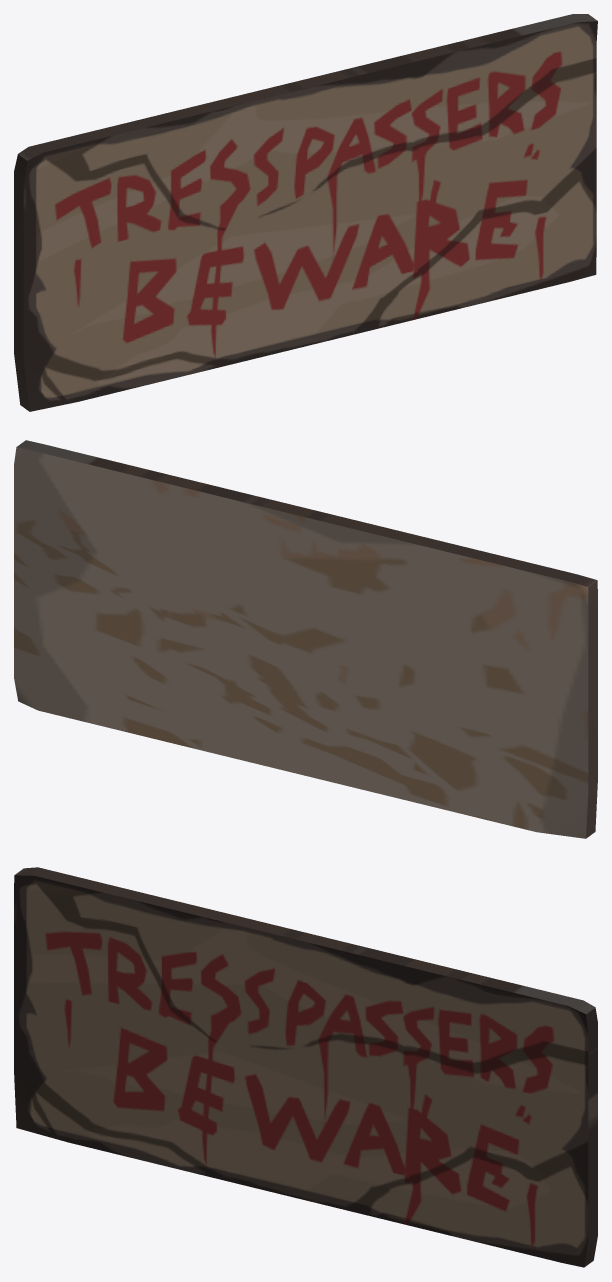
Rendered from SM_Prop_Sign_Custom_15.fbx.
3 views of the same model, one above another, from view 1: azimuth 30°, elevation 25°; view 2: azimuth 150°, elevation 25°; view 3: azimuth 330°, elevation 25° (orthographic).
Visible parts, largest first — view 1: SM_Prop_Sign_Custom_15; view 2: SM_Prop_Sign_Custom_15; view 3: SM_Prop_Sign_Custom_15.
Boxes of the visible parts, left/top/right/bottom form: SM_Prop_Sign_Custom_15: left=14, top=14, right=597, bottom=411; SM_Prop_Sign_Custom_15: left=14, top=440, right=597, bottom=838; SM_Prop_Sign_Custom_15: left=14, top=867, right=597, bottom=1267.
Bounding box in the file's own units: 219 × 94.06 × 7.52.
